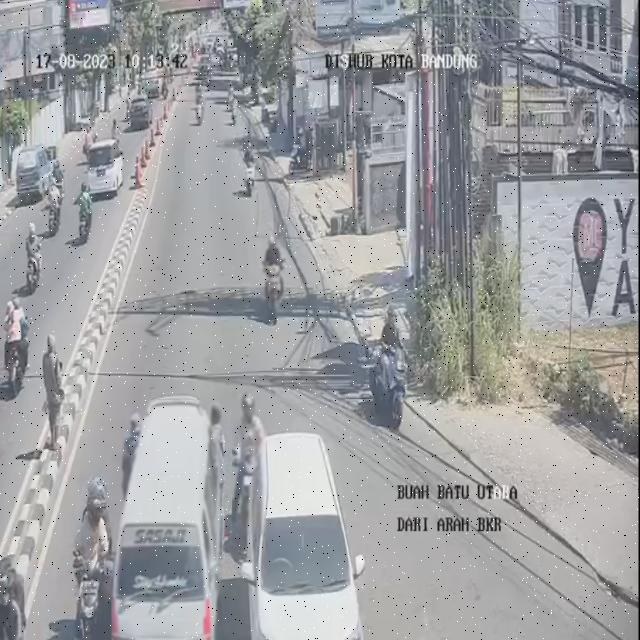cars: (110, 400, 222, 640), (249, 424, 363, 637)
motorcycle: (72, 474, 113, 640), (232, 389, 266, 535), (374, 299, 405, 432), (259, 232, 286, 320), (0, 560, 24, 640), (244, 140, 262, 200), (192, 86, 205, 124), (230, 91, 242, 131)
